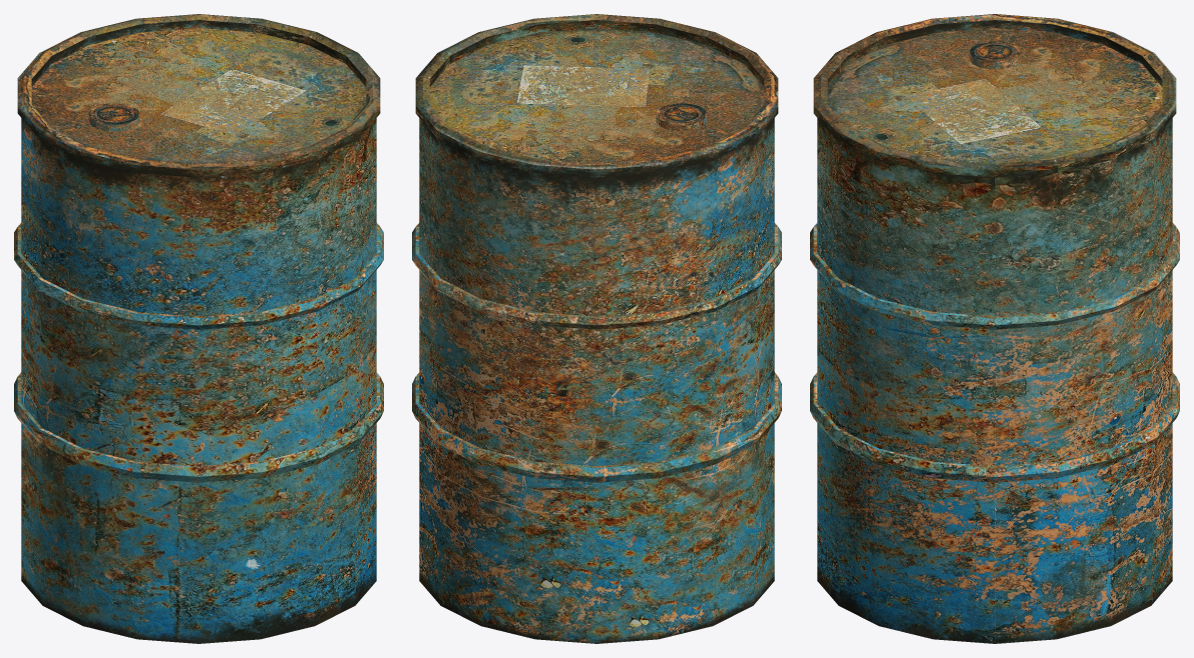
Rendered from Barrels.FBX.
The picture shows the model from 3 angles, left to right: view 1: azimuth 30°, elevation 25°; view 2: azimuth 150°, elevation 25°; view 3: azimuth 270°, elevation 25°; orthographic projection.
Visible parts, largest first — view 1: Barrel; view 2: Barrel; view 3: Barrel.
Boxes of the visible parts, left/top/right/bottom form: Barrel: left=14, top=14, right=383, bottom=643; Barrel: left=412, top=14, right=781, bottom=643; Barrel: left=810, top=14, right=1179, bottom=643.
Bounding box in the file's own units: 43.82 × 61.63 × 43.15.
